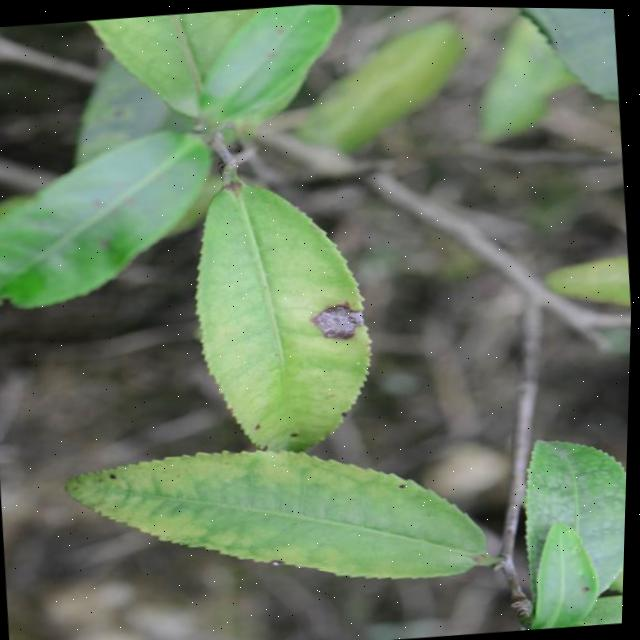Tea red scab: (314, 303, 371, 346)
